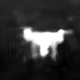plane: (17, 25, 73, 62)
